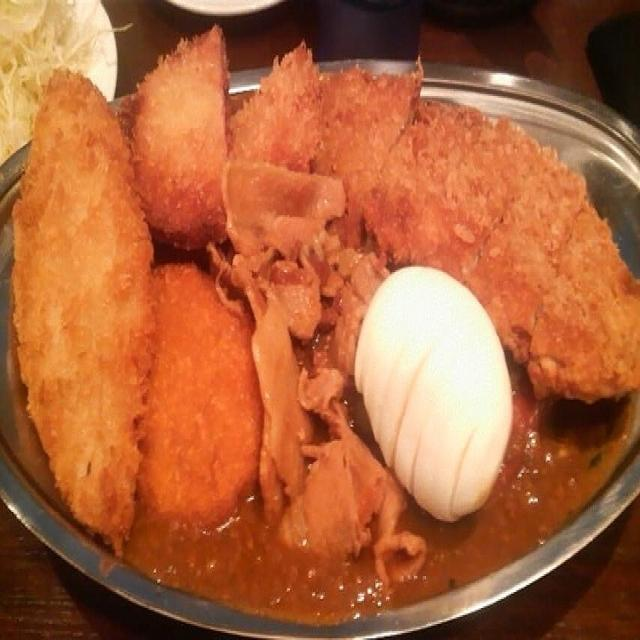炸货点心: (12, 16, 632, 599)
